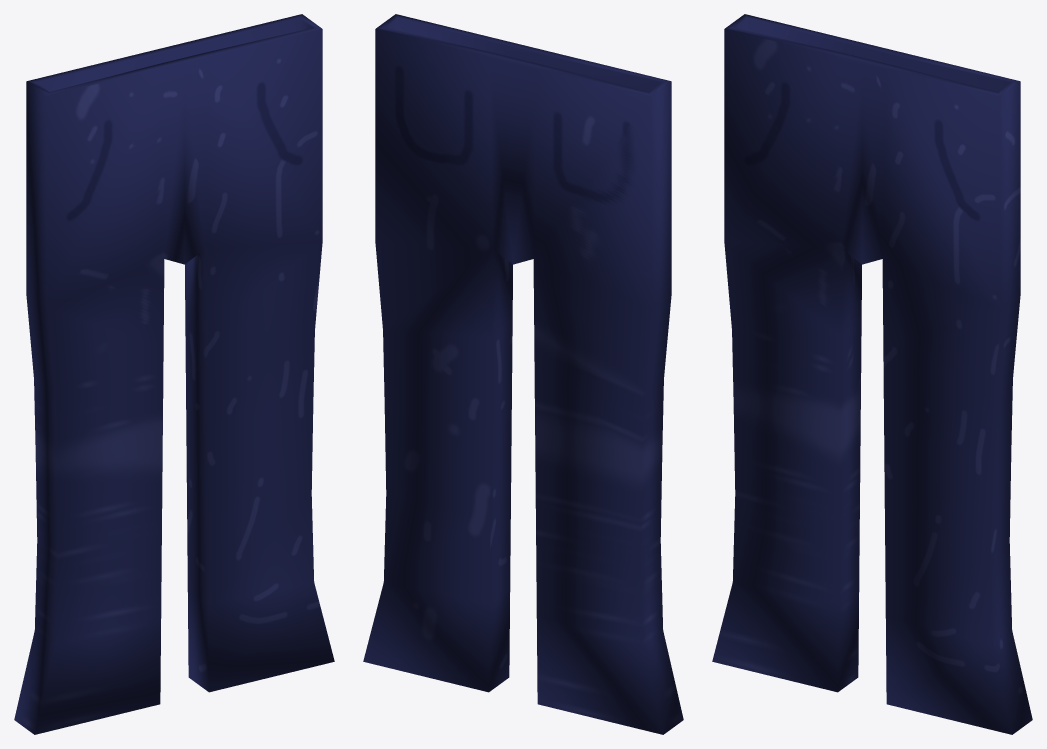
File: Pants.fbx
The picture shows the model from 3 angles, left to right: view 1: azimuth 30°, elevation 25°; view 2: azimuth 150°, elevation 25°; view 3: azimuth 330°, elevation 25°; orthographic projection.
Visible parts, largest first — view 1: Cube; view 2: Cube; view 3: Cube.
Part boxes in pixels (box(x1,y1,x2,y2)): Cube: box(14, 14, 334, 734); Cube: box(363, 14, 683, 734); Cube: box(712, 14, 1032, 734).
Bounding box in the file's own units: 67.66 × 137 × 7.99.
